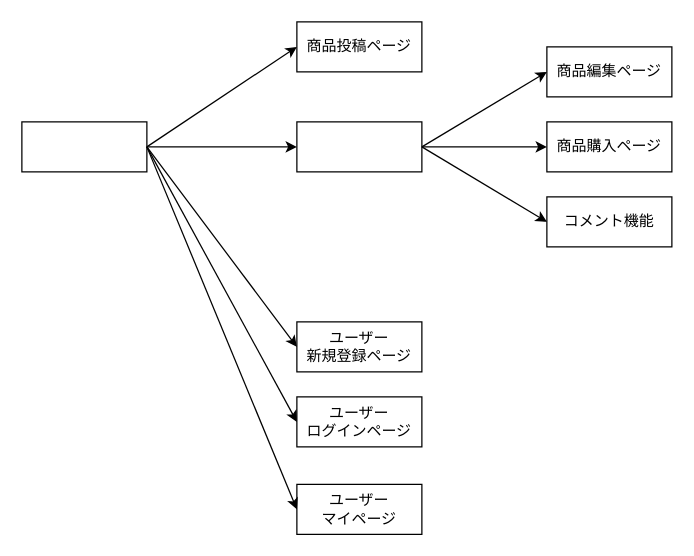
The diagram is 694 pixels wide and 556 high, and some of its shapes have lost their labels. The centre of each missing label's shape, as x and y in pixels:
商品一覧 （トップページ）: point (84, 146)
商品詳細ページ: point (359, 146)
